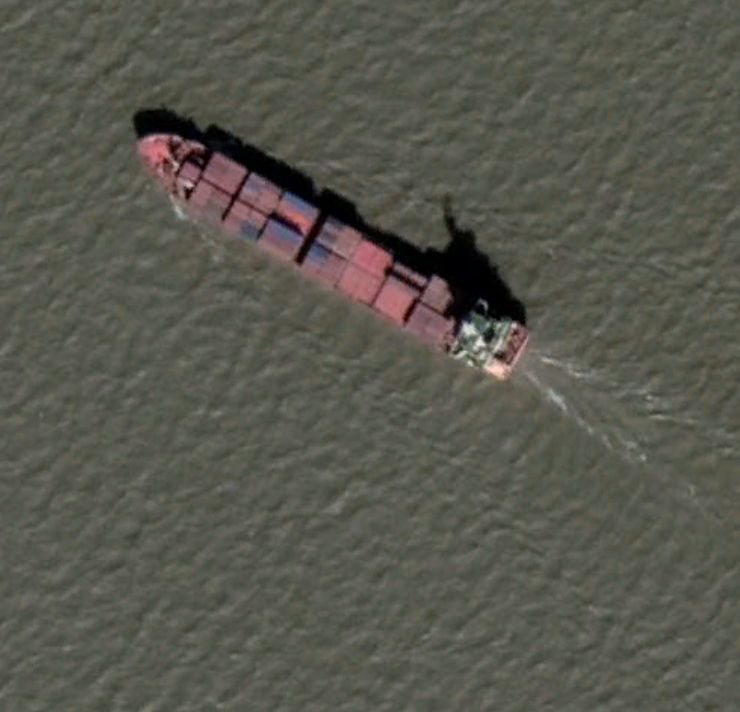boat: (132, 120, 532, 379)
